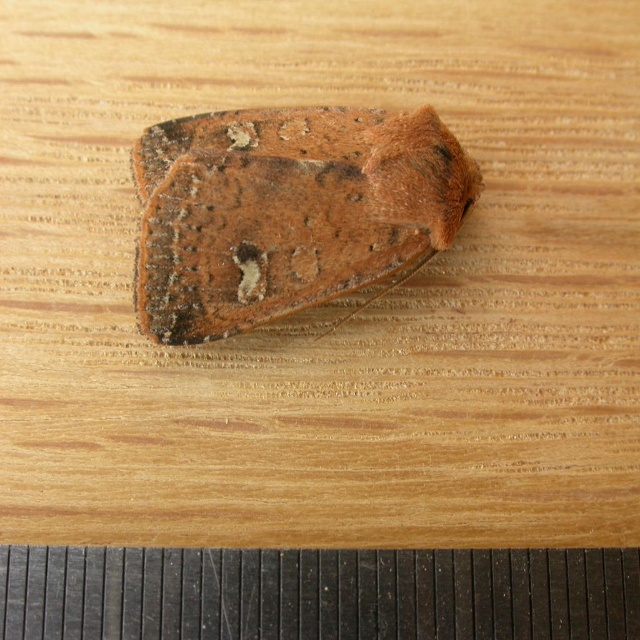Moths and butterflies: (126, 102, 490, 343)
